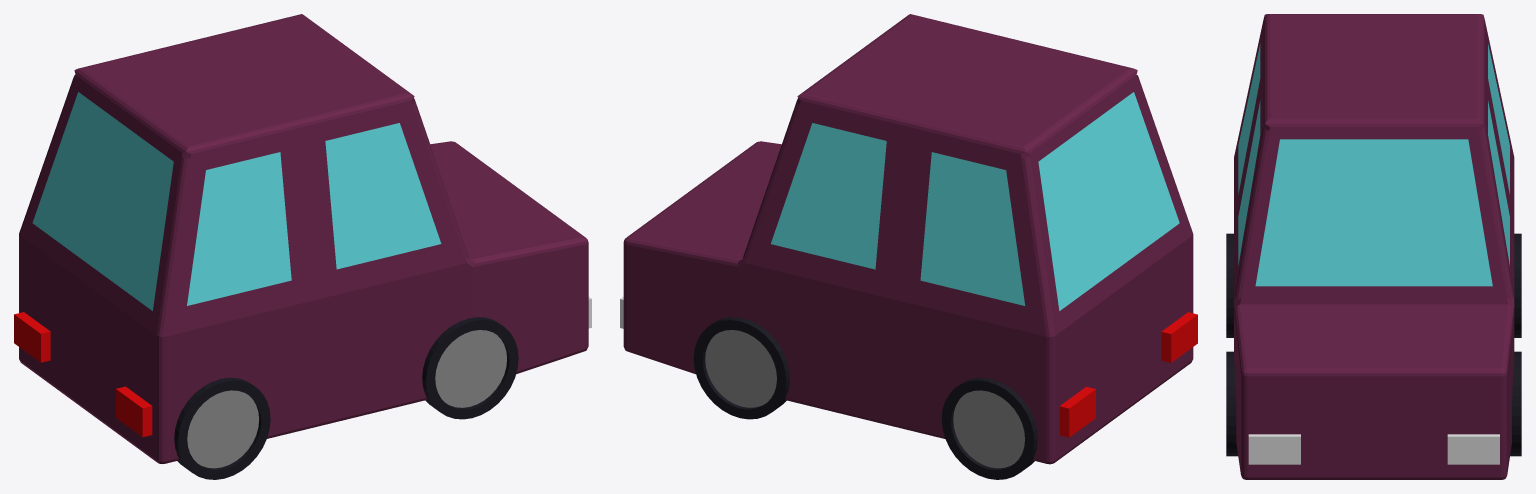
The model's file is Car.fbx.
The picture shows the model from 3 angles, left to right: view 1: azimuth 30°, elevation 25°; view 2: azimuth 150°, elevation 25°; view 3: azimuth 270°, elevation 25°; orthographic projection. The views are drawn at different scales.
Parts seen in each view (by area): view 1: Cube; view 2: Cube; view 3: Cube.
Boxes of the visible parts, x1=… form: Cube: x1=14, y1=14, x2=591, y2=479; Cube: x1=620, y1=14, x2=1197, y2=479; Cube: x1=1226, y1=14, x2=1521, y2=479.
Bounding box in the file's own units: 72.33 × 49.14 × 42.12.
